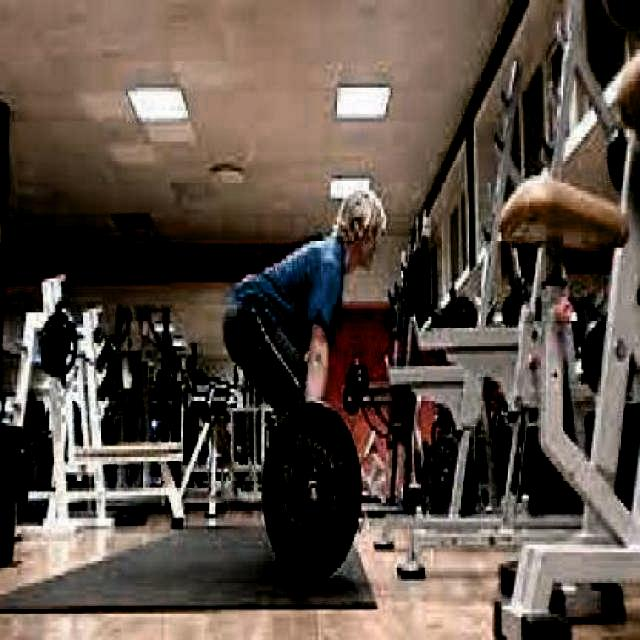barbell: (252, 392, 369, 590)
